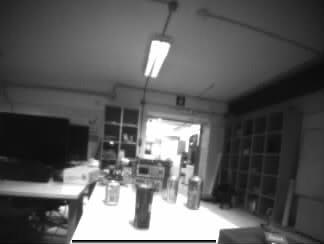Tin can: (134, 183, 151, 228), (186, 177, 203, 211), (105, 179, 120, 205), (167, 177, 177, 202)
